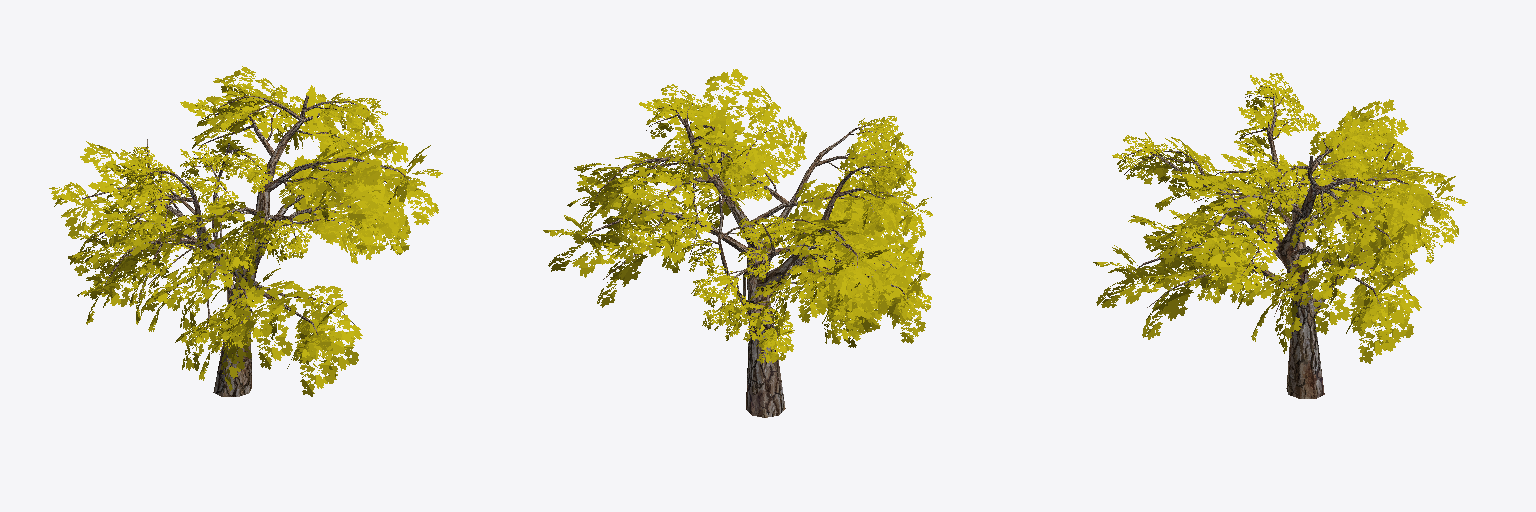
The picture shows the model from 3 angles: view 1: azimuth 30°, elevation 25°; view 2: azimuth 150°, elevation 25°; view 3: azimuth 270°, elevation 25°; orthographic projection.
Parts seen in each view (by area): view 1: tree_oak_joined.001; view 2: tree_oak_joined.001; view 3: tree_oak_joined.001.
Boxes of the visible parts, x1=… form: tree_oak_joined.001: x1=49, y1=66, x2=442, y2=396; tree_oak_joined.001: x1=543, y1=69, x2=932, y2=417; tree_oak_joined.001: x1=1093, y1=73, x2=1467, y2=398.
Bounding box in the file's own units: 291 × 222 × 273.
3 materials, 2 textured.